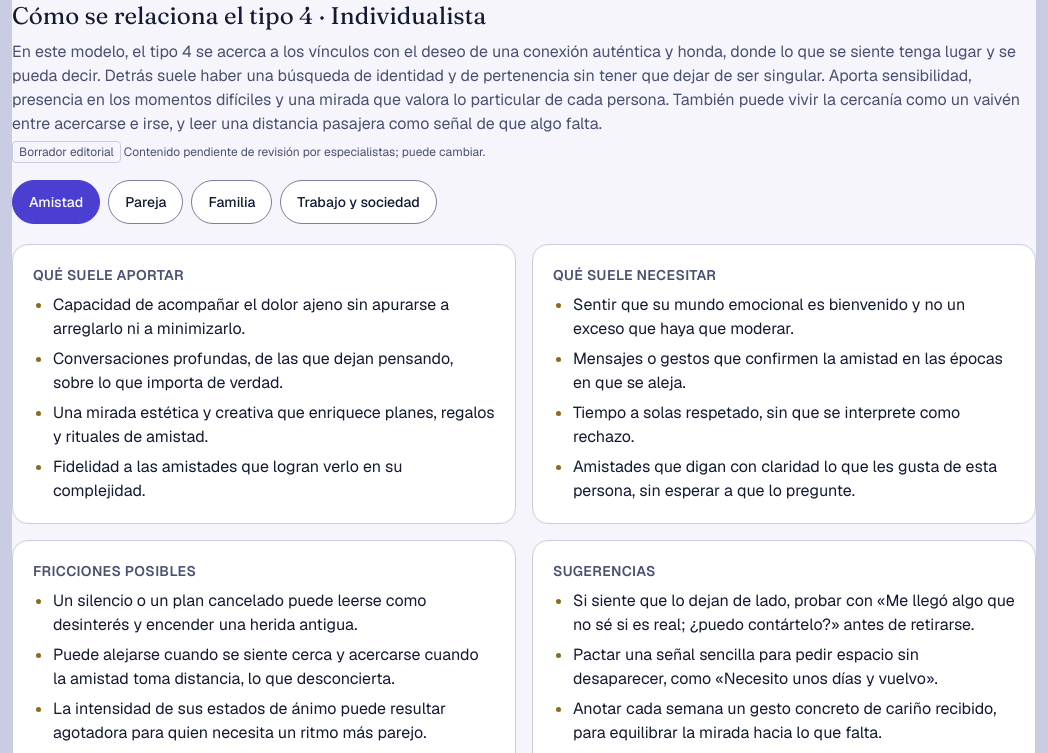
Scenario: RelationshipGuide › switches to Familia and shows that context's lists only
The image size is (1048, 753).
Step 1. Click the button "Familia" → (232, 202), box [192,180,272,224]
(page scrolled)
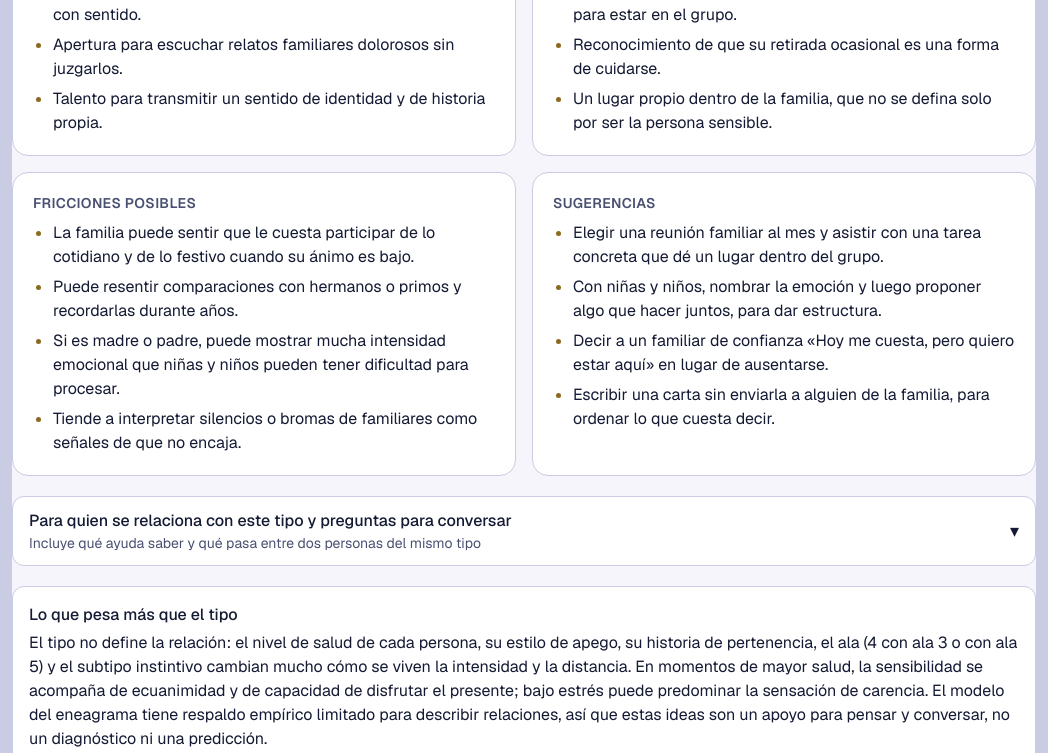
Result: the list item "Apertura para escuchar relatos familiares dolorosos sin juzgarlos." is shown at [53,33,495,81]
Result: the list item "Talento para transmitir un sentido de identidad y de historia propia." is shown at [53,87,495,135]
Result: the list item "Reconocimiento de que su retirada ocasional es una forma de cuidarse." is shown at [573,33,1015,81]
